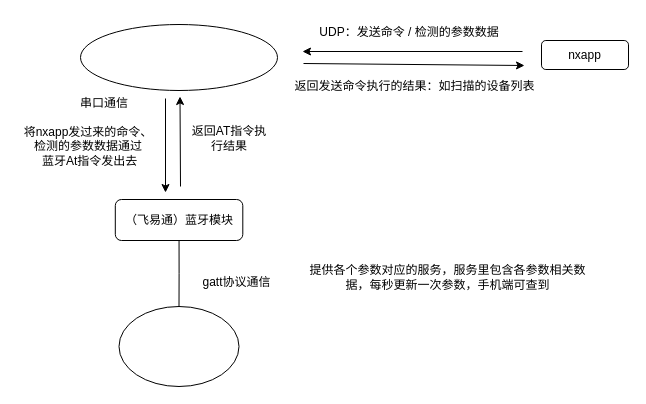
Image size: 646x404. Some labels were removed from this diagram. Here are the shapes that lost their labels. From the top down, the box of each, then its label:
(80, 24, 278, 90): 蓝牙程序
(118, 306, 239, 386): 手机app
